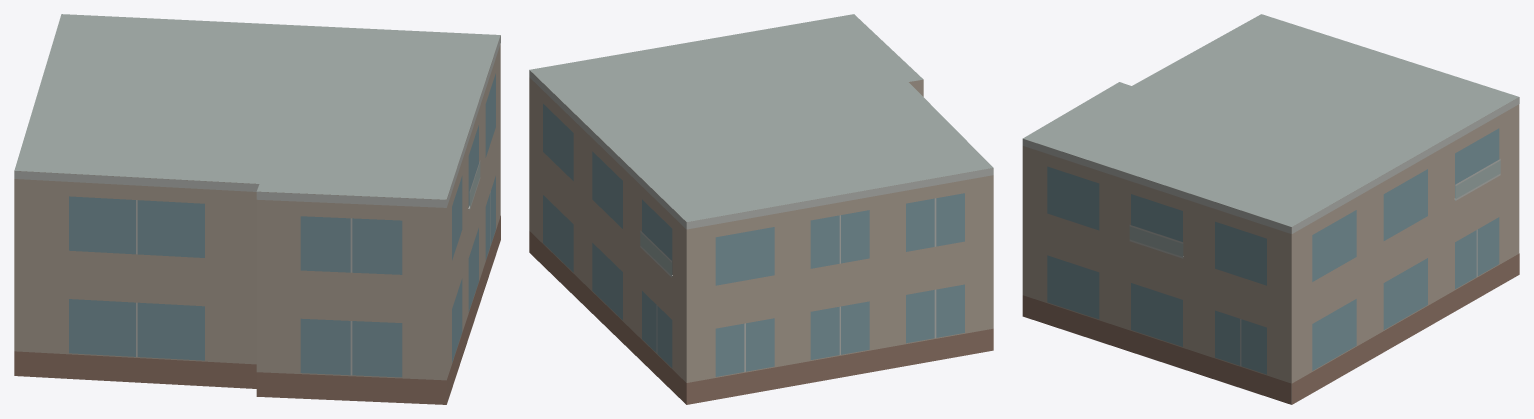
File: survey-upis-32850862.glb
The picture shows the model from 3 angles, left to right: view 1: azimuth 30°, elevation 25°; view 2: azimuth 150°, elevation 25°; view 3: azimuth 270°, elevation 25°; orthographic projection. The views are drawn at different scales.
Visible parts, largest first — view 1: survey-upis-32850862.tmp; view 2: survey-upis-32850862.tmp; view 3: survey-upis-32850862.tmp.
Boxes of the visible parts, bbox=[...] form: survey-upis-32850862.tmp: bbox=[14, 14, 500, 404]; survey-upis-32850862.tmp: bbox=[529, 14, 993, 404]; survey-upis-32850862.tmp: bbox=[1022, 14, 1519, 404].
Size of the model in its own units: 15.69 by 6.1 by 15.46.
